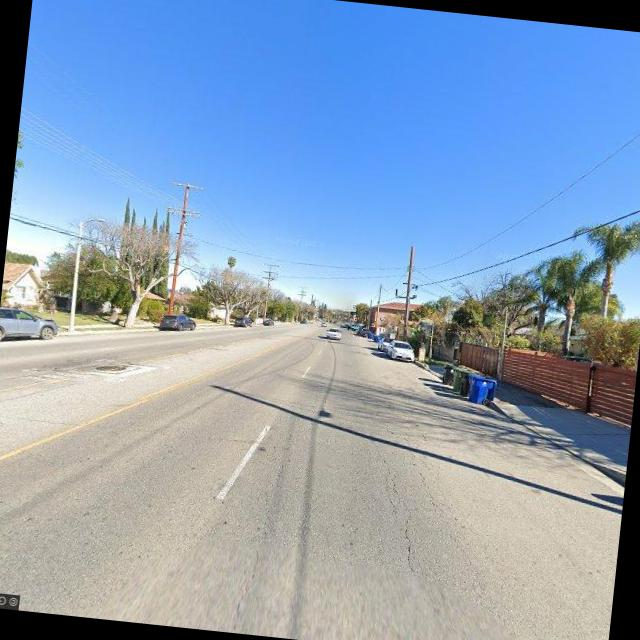crack: (361, 422, 492, 578)
